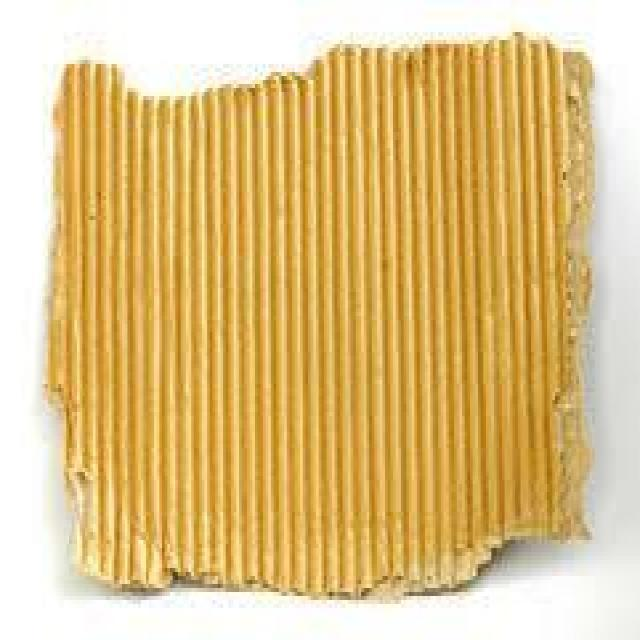box: (48, 28, 595, 604)
